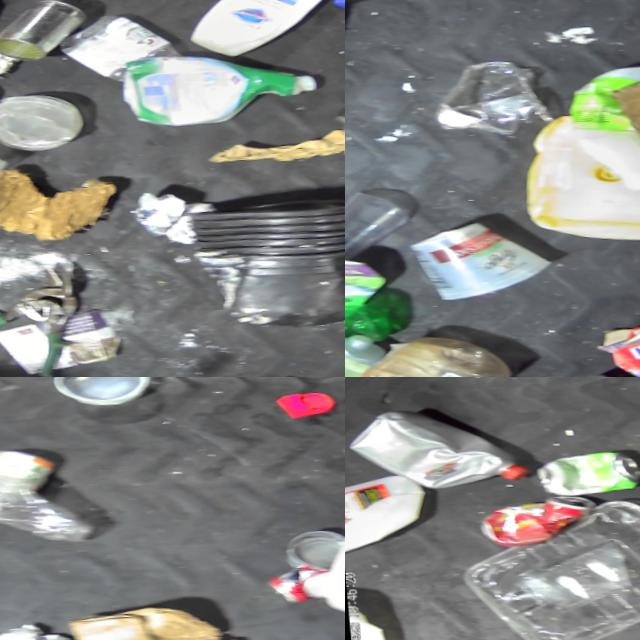can: (474, 486, 597, 550), (530, 440, 640, 497), (0, 0, 92, 64), (280, 519, 345, 566), (264, 554, 327, 601), (0, 440, 57, 484), (0, 613, 81, 640), (556, 360, 640, 377)
milk_jug: (559, 52, 640, 190), (345, 468, 428, 559), (295, 493, 345, 619), (345, 591, 391, 640)
non_white_jug: (514, 92, 640, 249), (345, 396, 533, 497)
plastic_bottle: (0, 441, 96, 552)
